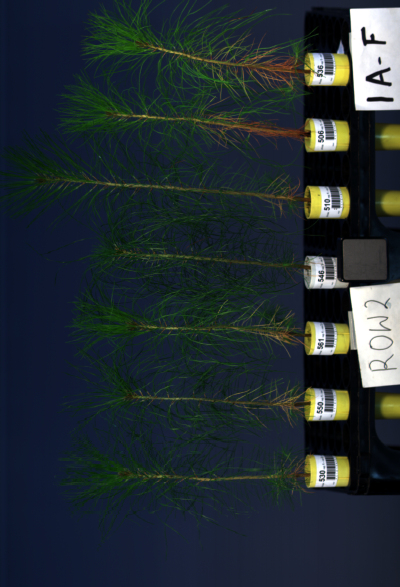tube: (303, 51, 352, 88), (305, 116, 354, 153), (305, 453, 354, 490), (301, 386, 350, 423), (305, 318, 354, 355), (304, 254, 353, 291), (303, 181, 352, 218)
